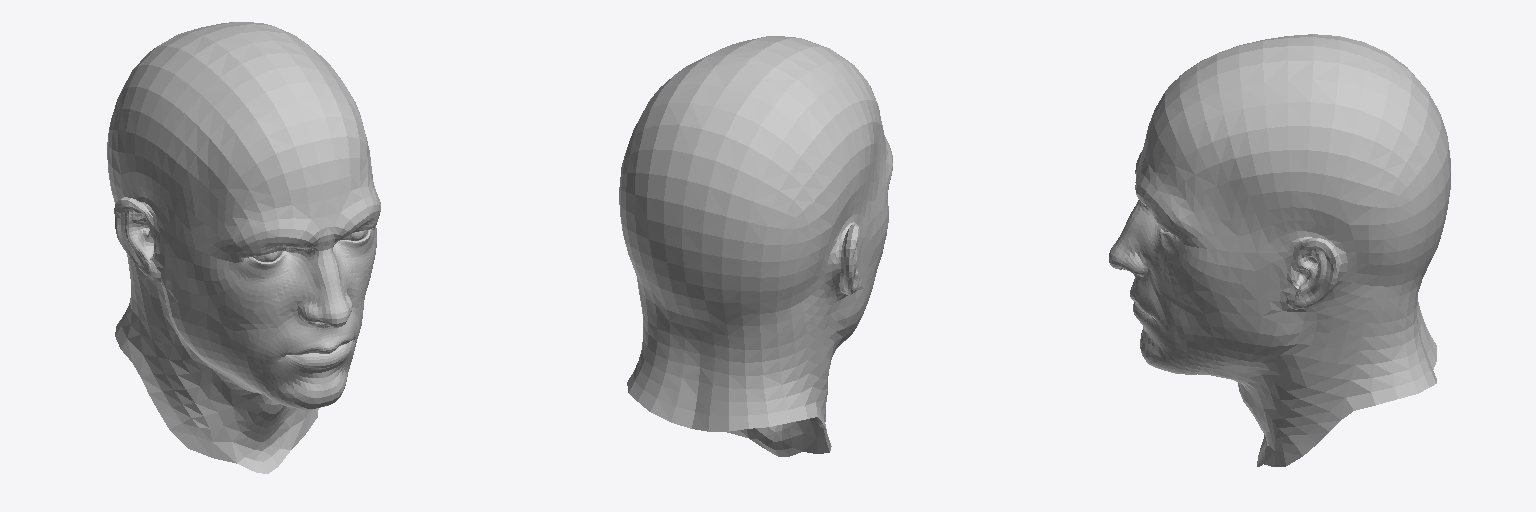
File: zoomed_in_translated.obj
3 renders of one model, left to right at view 1: azimuth 30°, elevation 25°; view 2: azimuth 150°, elevation 25°; view 3: azimuth 270°, elevation 25°, orthographic.
Visible parts, largest first — view 1: man_body_0014_uv_map_man_body_0014_uv_map.001; view 2: man_body_0014_uv_map_man_body_0014_uv_map.001; view 3: man_body_0014_uv_map_man_body_0014_uv_map.001.
Part boxes in pixels (left/top/right/bottom): man_body_0014_uv_map_man_body_0014_uv_map.001: left=107, top=22, right=380, bottom=473; man_body_0014_uv_map_man_body_0014_uv_map.001: left=619, top=36, right=892, bottom=456; man_body_0014_uv_map_man_body_0014_uv_map.001: left=1109, top=34, right=1450, bottom=466.
Bounding box in the file's own units: 0.2651 × 0.4638 × 0.3432.